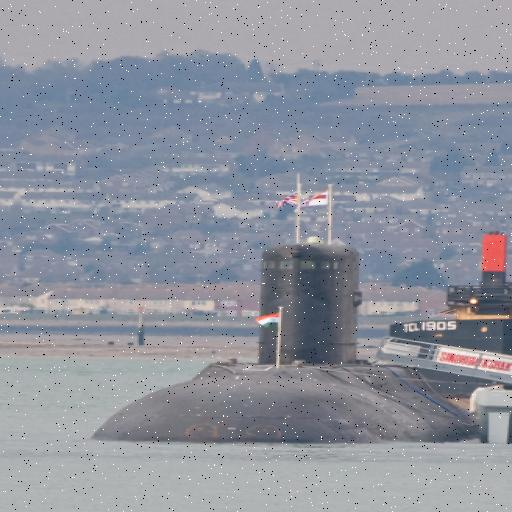submarine: (85, 226, 482, 441)
